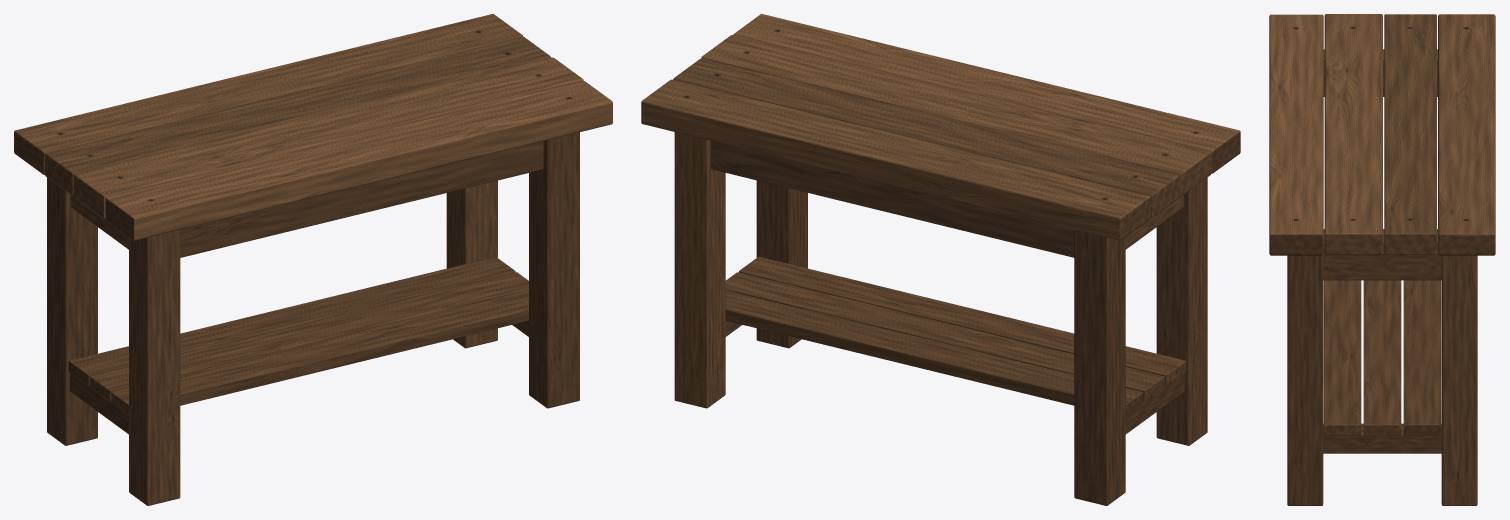
The model's file is workbench.glb.
3 renders of one model, left to right at view 1: azimuth 30°, elevation 25°; view 2: azimuth 150°, elevation 25°; view 3: azimuth 270°, elevation 25°, orthographic. The views are drawn at different scales.
Parts seen in each view (by area): view 1: Workbench; view 2: Workbench; view 3: Workbench.
Part boxes in pixels (x1,y1,x2,y2): Workbench: (14,14,612,505); Workbench: (641,14,1240,505); Workbench: (1269,14,1495,505).
Bounding box in the file's own units: 1.5 × 0.9 × 0.65.
Materials: 1 (1 with a texture image).
